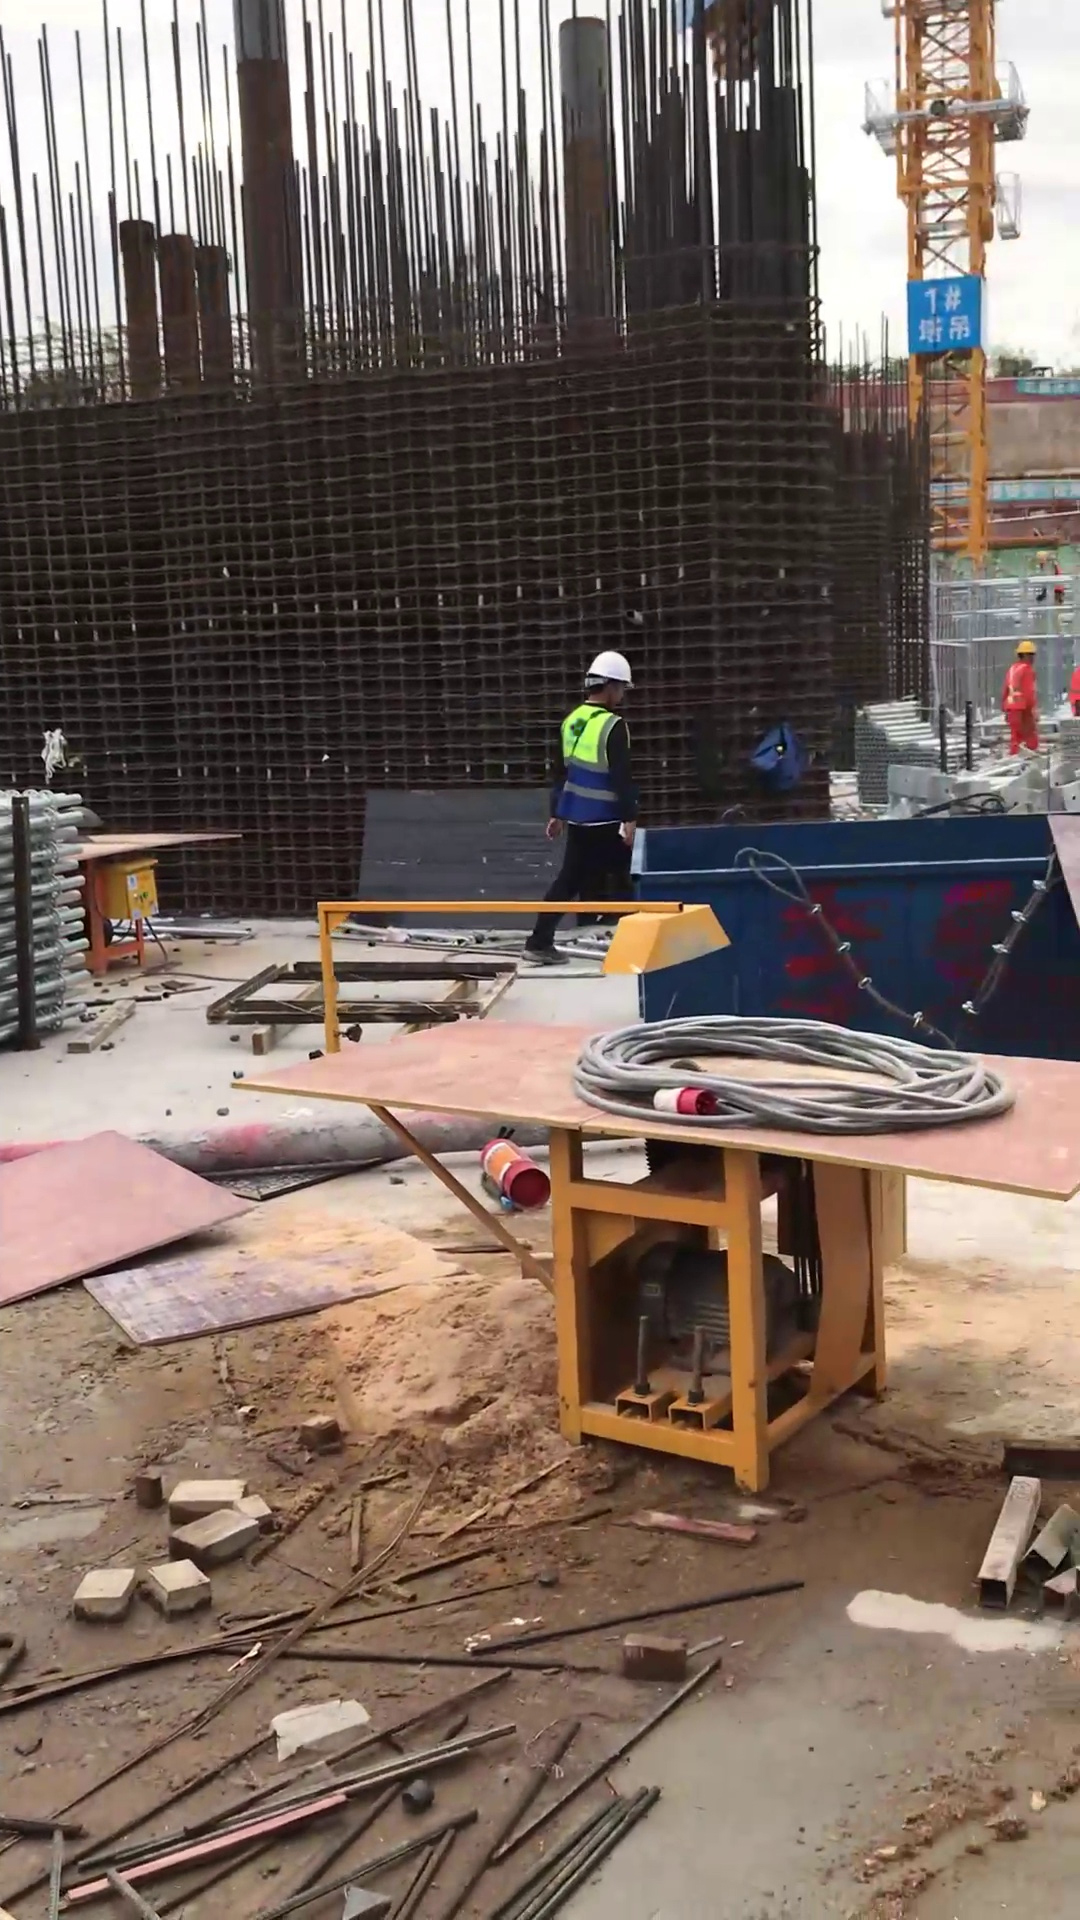cutter: (306, 996, 1080, 1498), (66, 815, 249, 984)
helmet: (579, 649, 640, 693), (1011, 637, 1043, 665)
hopper: (616, 803, 1080, 1074)
person: (517, 644, 649, 971), (988, 637, 1056, 772)
scaffold: (1, 772, 106, 1056), (854, 691, 973, 808)
slogan: (987, 476, 1080, 501), (1017, 373, 1080, 398)
vest: (547, 702, 638, 833), (998, 661, 1036, 720)
